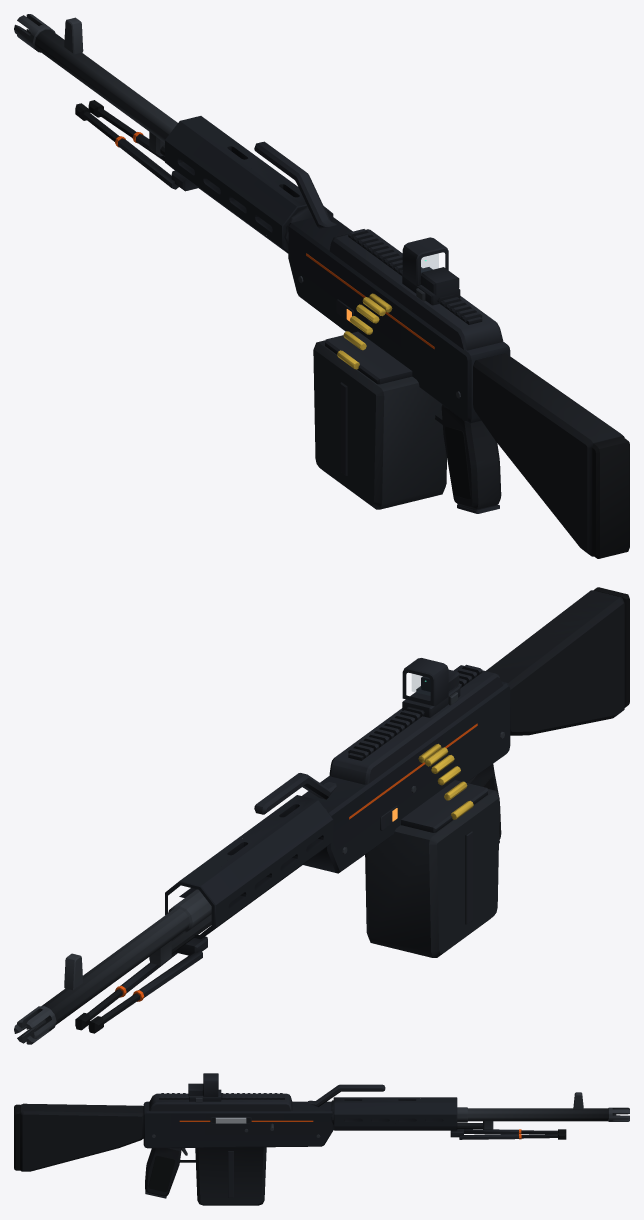
The picture shows the model from 3 angles, top to bottom: view 1: azimuth 30°, elevation 25°; view 2: azimuth 150°, elevation 25°; view 3: azimuth 270°, elevation 25°; orthographic projection. The views are drawn at different scales.
Parts seen in each view (by area): view 1: body_frame, body_polymer, mag_furn, body_frame2, body_steel, body_rubber, mag_frame2, body_brass; view 2: body_frame, mag_furn, body_polymer, body_frame2, body_steel, mag_frame2, body_rubber, body_brass; view 3: body_frame, body_polymer, body_frame2, mag_furn, body_steel, body_rubber, mag_frame2, bolt_bolt, body_accent.
Part boxes in pixels (left/top/right/bottom): body_frame: left=165, top=116, right=510, bottom=423; body_polymer: left=441, top=353, right=624, bottom=556; mag_furn: left=313, top=340, right=446, bottom=509; body_frame2: left=118, top=134, right=503, bottom=513; body_steel: left=14, top=14, right=460, bottom=398; body_rubber: left=75, top=100, right=629, bottom=558; mag_frame2: left=325, top=331, right=412, bottom=475; body_brass: left=337, top=293, right=392, bottom=369; body_frame: left=165, top=681, right=510, bottom=939; mag_furn: left=365, top=789, right=499, bottom=957; body_polymer: left=466, top=590, right=624, bottom=840; body_frame2: left=120, top=658, right=502, bottom=997; body_steel: left=14, top=686, right=504, bottom=1044; mag_frame2: left=401, top=780, right=487, bottom=924; body_rubber: left=75, top=587, right=629, bottom=1033; body_brass: left=418, top=743, right=473, bottom=819; body_frame: left=143, top=1097, right=457, bottom=1148; body_polymer: left=20, top=1103, right=250, bottom=1196; body_frame2: left=145, top=1073, right=518, bottom=1198; mag_furn: left=195, top=1147, right=266, bottom=1205; body_steel: left=152, top=1092, right=629, bottom=1155; body_rubber: left=14, top=1104, right=566, bottom=1191; mag_frame2: left=228, top=1151, right=233, bottom=1197; bolt_bolt: left=215, top=1117, right=246, bottom=1123; body_accent: left=179, top=1120, right=521, bottom=1139.
Bounding box in the file's own units: 0.1205 × 0.275 × 1.2.
